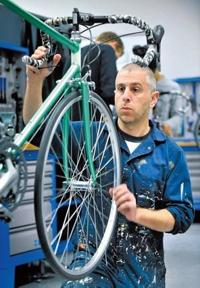person: (21, 39, 195, 286)
